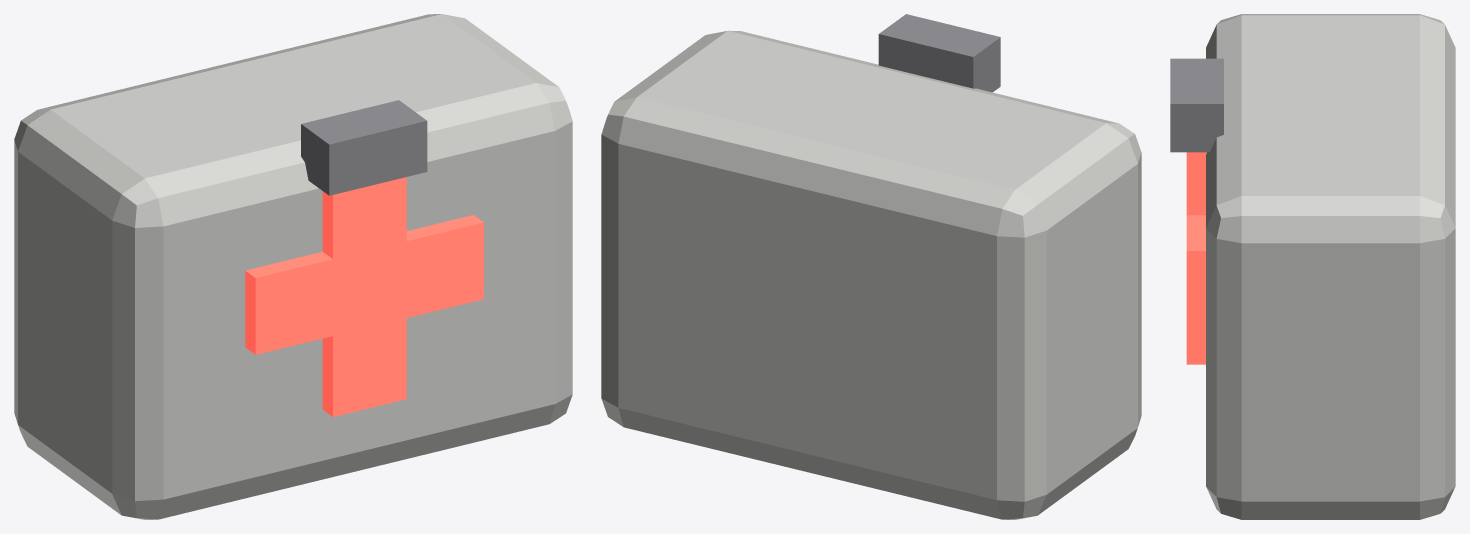
The model's file is pickup_medkit.glb.
3 renders of one model, left to right at view 1: azimuth 30°, elevation 25°; view 2: azimuth 150°, elevation 25°; view 3: azimuth 270°, elevation 25°, orthographic. The views are drawn at different scales.
Visible parts, largest first — view 1: pickup_medkit; view 2: pickup_medkit; view 3: pickup_medkit.
Boxes of the visible parts, left/top/right/bottom form: pickup_medkit: left=14, top=14, right=572, bottom=519; pickup_medkit: left=601, top=14, right=1141, bottom=519; pickup_medkit: left=1170, top=14, right=1455, bottom=519.
Size of the model in its own units: 0.28 by 0.215 by 0.16.
